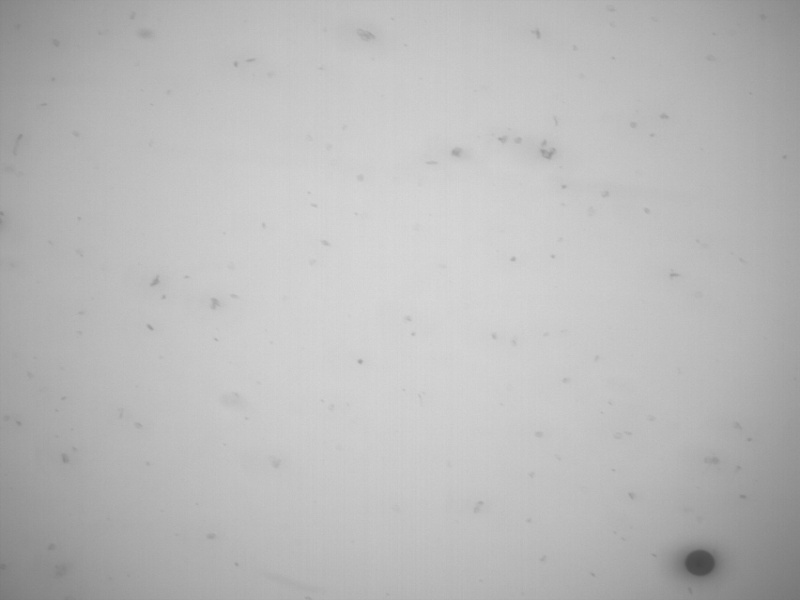bead: (685, 549, 716, 578)
